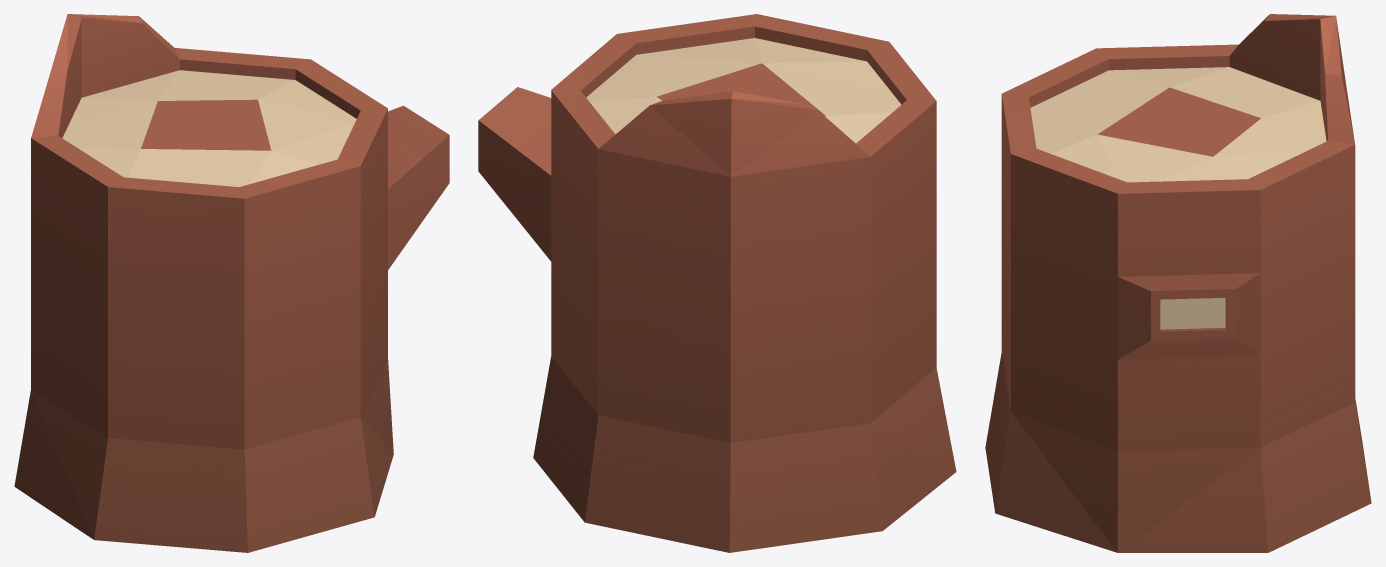
File: stump.fbx
The picture shows the model from 3 angles, left to right: view 1: azimuth 30°, elevation 25°; view 2: azimuth 150°, elevation 25°; view 3: azimuth 270°, elevation 25°; orthographic projection. The views are drawn at different scales.
Visible parts, largest first — view 1: Stump1.001; view 2: Stump1.001; view 3: Stump1.001.
Part boxes in pixels (x1,y1,x2,y2): Stump1.001: (14,14,449,552); Stump1.001: (478,14,956,552); Stump1.001: (985,14,1371,552).
Size of the model in its own units: 1913 by 1953 by 1601.
